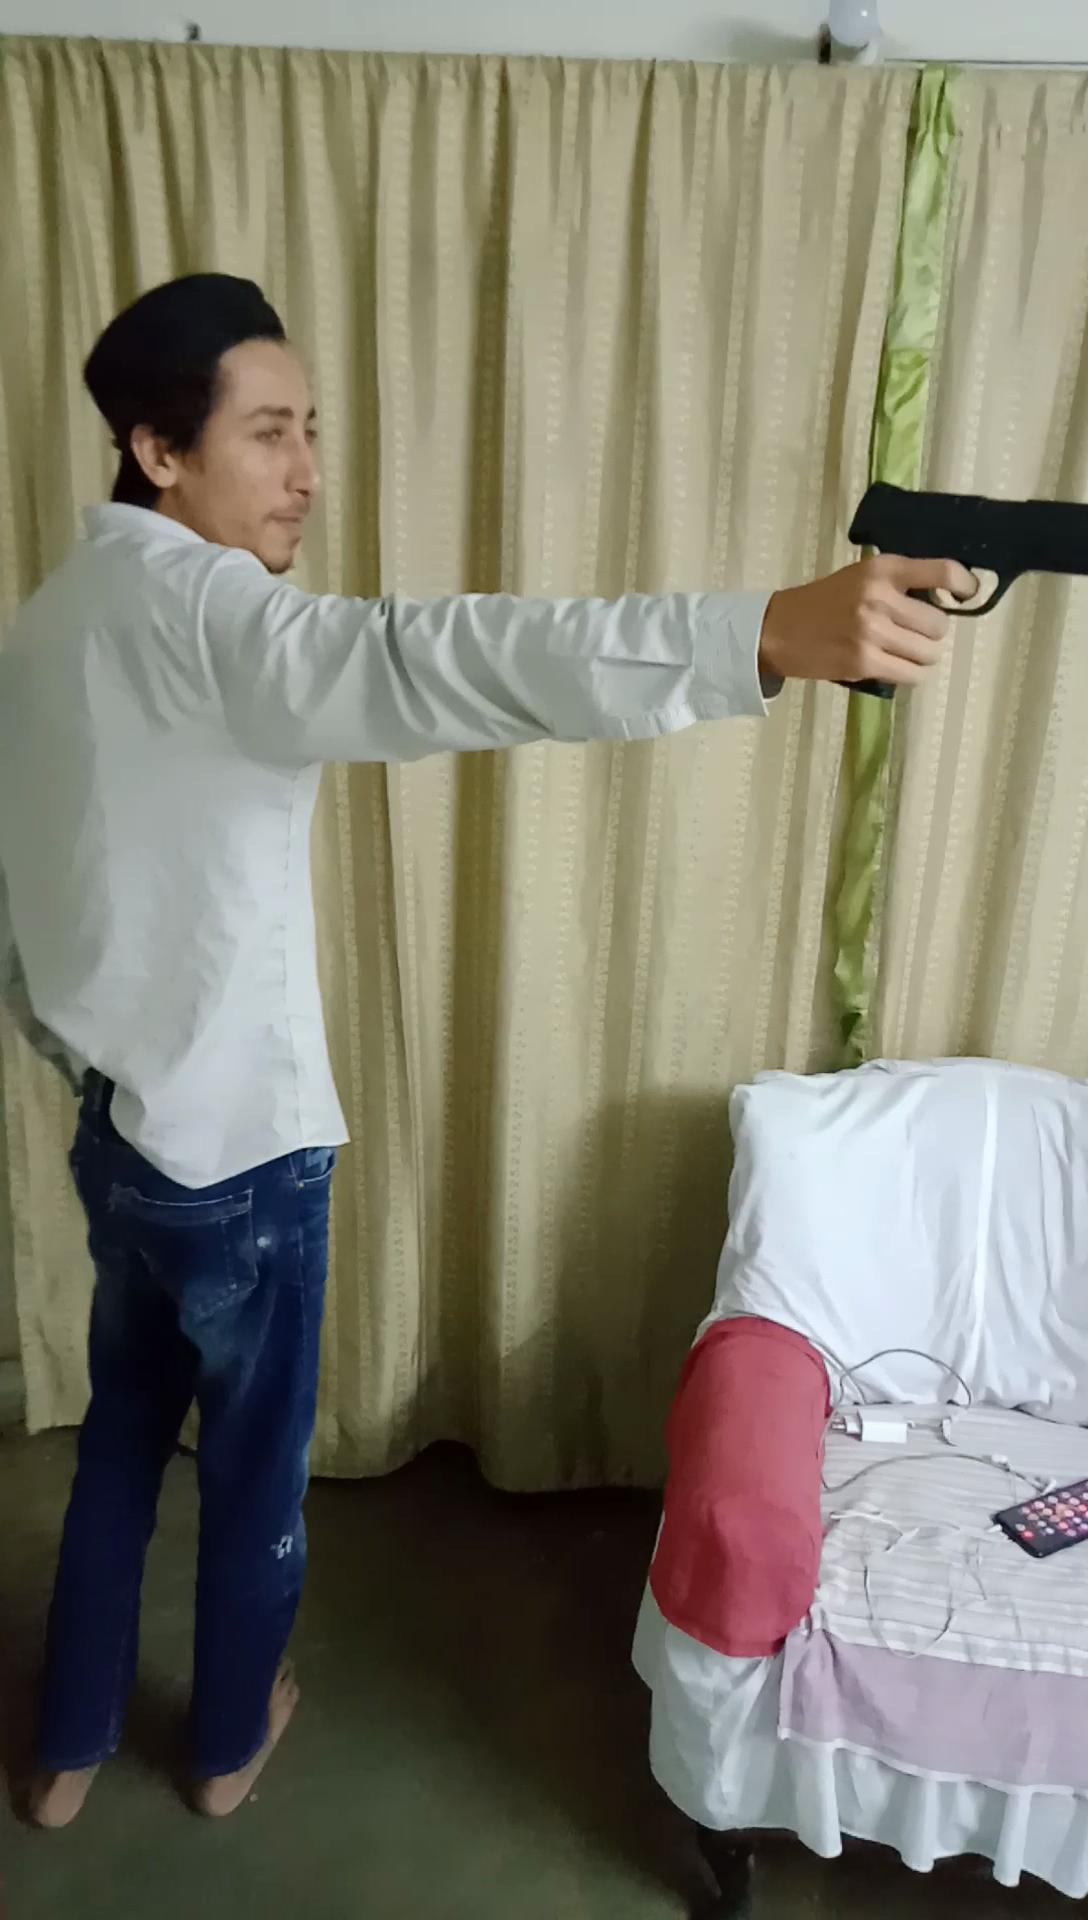criminal: (0, 276, 1088, 1825)
weapon: (831, 476, 1088, 712)
